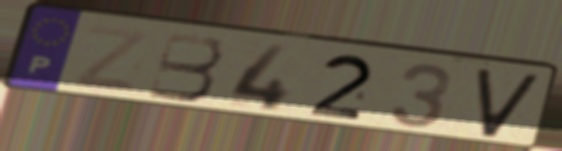2: (308, 53, 375, 122)
3: (389, 61, 454, 129)
4: (225, 41, 296, 114)
B: (145, 31, 227, 104)
V: (473, 67, 544, 140)
Z: (69, 23, 155, 96)
